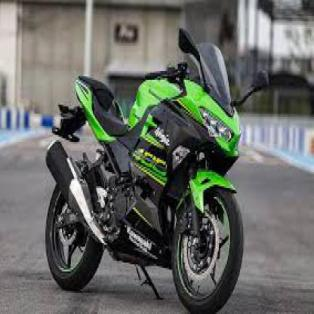Motocicleta: (32, 23, 268, 312)
